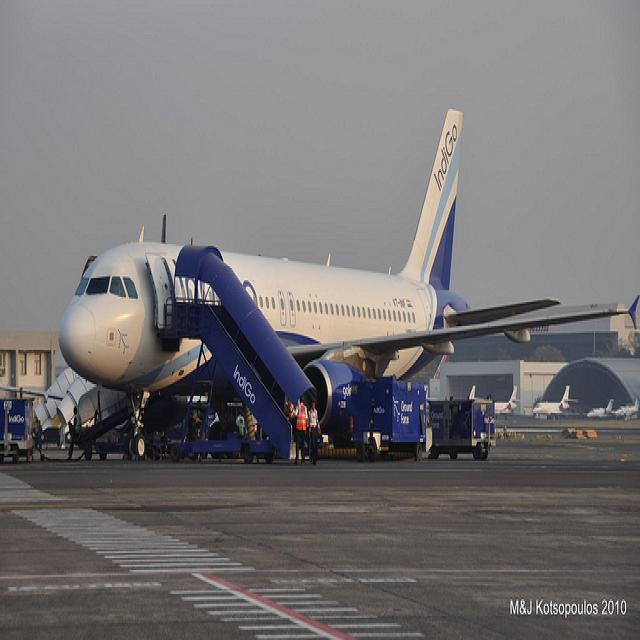Vehicle: (332, 377, 428, 461), (427, 386, 497, 463), (1, 398, 33, 466)
